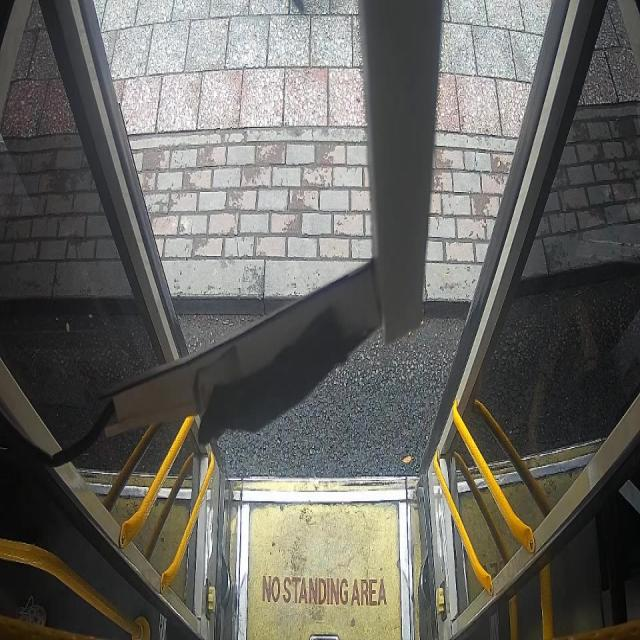open: (74, 2, 576, 488)
